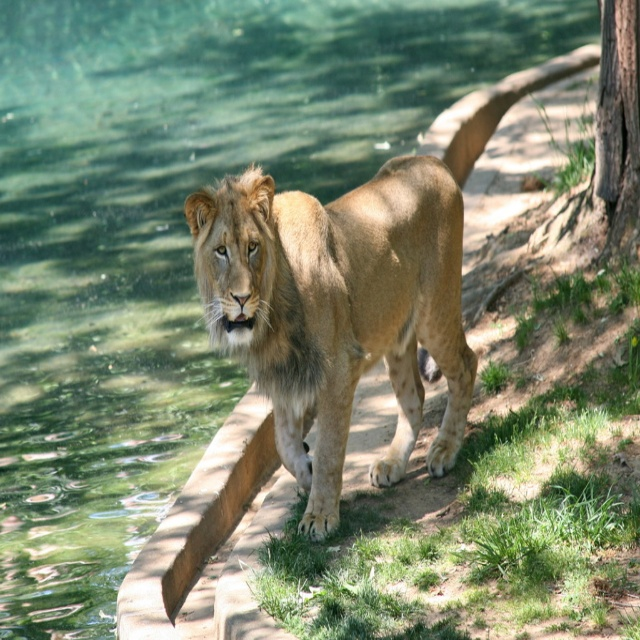Lion: (180, 161, 480, 543)
